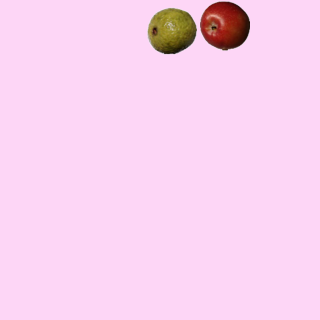Apple Braeburn: (199, 0, 249, 50)
Guava: (146, 5, 196, 55)
